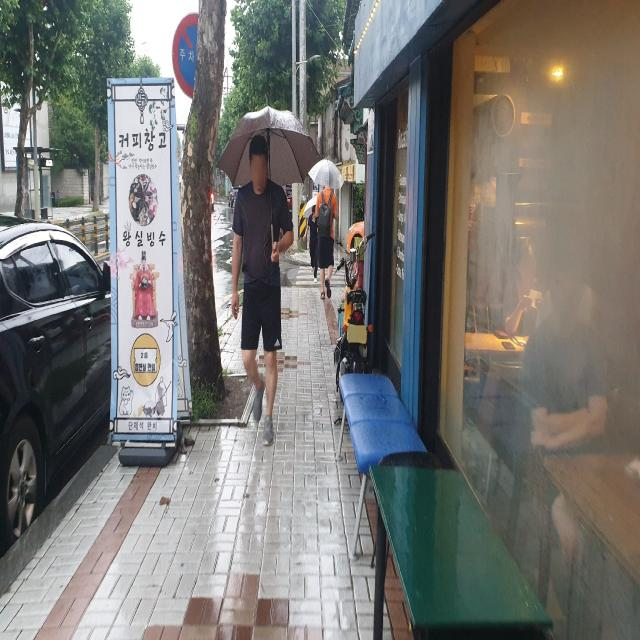횡단보도: (296, 266, 354, 285)
